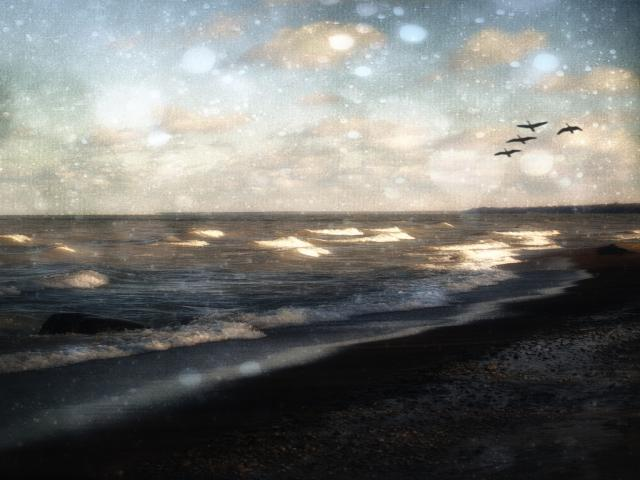Bird: (550, 117, 582, 136), (512, 119, 550, 134), (494, 146, 522, 160), (506, 134, 538, 146)
